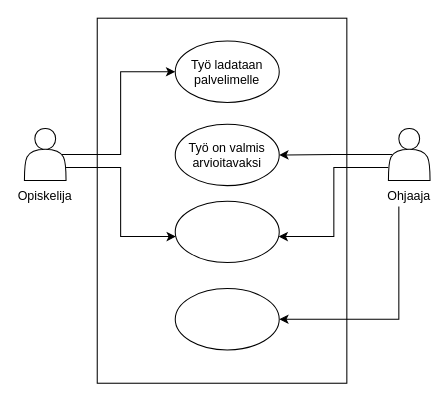
The diagram is 448 pixels wide and 401 high, and some of its shapes have lost their labels. Here are the shapes that lost their labels. From the top down, the centre of each, then its label:
point (226, 231): Työ arvioidaan
point (226, 319): Opiskelija saa arvosanan
